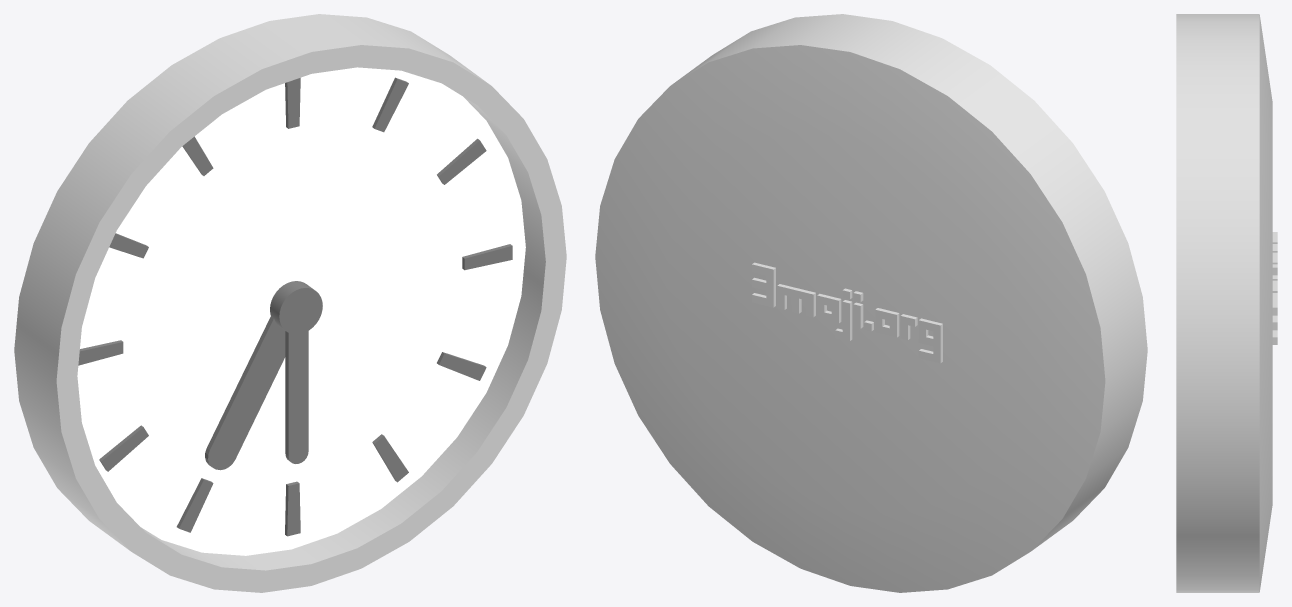
The model's file is seven_thirty.gltf.
The picture shows the model from 3 angles, left to right: view 1: azimuth 30°, elevation 25°; view 2: azimuth 150°, elevation 25°; view 3: azimuth 270°, elevation 25°; orthographic projection.
Visible parts, largest first — view 1: Circle.2474; view 2: Circle.2474; view 3: Circle.2474.
Part boxes in pixels (<box>): Circle.2474: <box>14,14,566,592</box>; Circle.2474: <box>595,14,1147,592</box>; Circle.2474: <box>1176,14,1277,592</box>.
Bounding box in the file's own units: 2.33 × 2.33 × 0.4069.
Materials: 1 (1 with a texture image).
